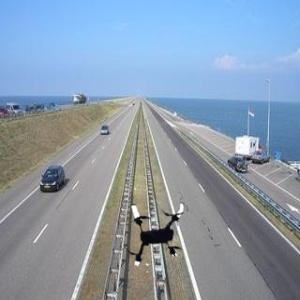drone: (115, 190, 196, 271)
